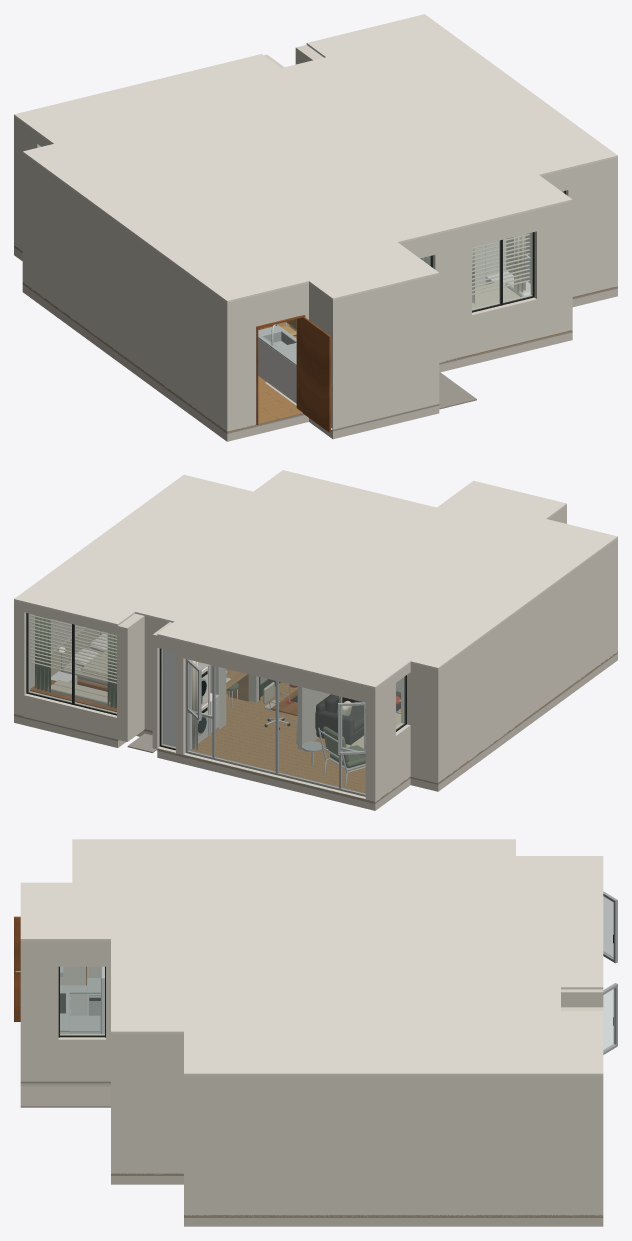
Rendered from home-model-800.glb.
3 renders of one model, top to bottom at view 1: azimuth 30°, elevation 25°; view 2: azimuth 150°, elevation 25°; view 3: azimuth 270°, elevation 25°, orthographic. The views are drawn at different scales.
Visible parts, largest first — view 1: 全屋顶面, CAD墙体_36, CAD墙体_86, CAD墙体_01, CAD墙体_02, 完整户型基座, CAD墙体_04, CAD墙体_35, CAD墙体_05, CAD墙体_83, CAD墙体_20, 入户门 (+27 smaller); view 2: 全屋顶面, Floor_shared_温润橡木地板, CAD墙体_36, CAD墙体_86, 阳台F2中央固定玻璃, 阳台F1中央固定玻璃, CAD墙体_02, 完整户型基座, CAD墙体_01, 主卧窗玻璃.001, 主卧窗玻璃, CAD墙体_05 (+34 smaller); view 3: 全屋顶面, CAD墙体_43, CAD墙体_01, CAD墙体_04, CAD墙体_86, CAD墙体_26, 完整户型基座, CAD墙体_83, CAD墙体_34, 厨房窗玻璃, CAD墙体_40, CAD墙体_85 (+23 smaller).
Boxes of the visible parts, x1,y1,x2,y2 form: 全屋顶面: [14, 14, 617, 302]; CAD墙体_36: [22, 190, 256, 373]; CAD墙体_86: [14, 45, 617, 313]; CAD墙体_01: [289, 262, 617, 428]; CAD墙体_02: [14, 221, 256, 430]; 完整户型基座: [14, 247, 617, 441]; CAD墙体_04: [331, 248, 617, 404]; CAD墙体_35: [308, 311, 439, 371]; CAD墙体_05: [14, 207, 256, 407]; CAD墙体_83: [22, 61, 617, 321]; CAD墙体_20: [14, 193, 256, 390]; 入户门: [303, 317, 330, 432]; 全屋顶面: [14, 470, 617, 688]; Floor_shared_温润橡木地板: [14, 651, 617, 801]; CAD墙体_36: [401, 570, 617, 731]; CAD墙体_86: [14, 505, 617, 697]; 阳台F2中央固定玻璃: [215, 666, 275, 771]; 阳台F1中央固定玻璃: [278, 682, 338, 787]; CAD墙体_02: [365, 630, 617, 801]; 完整户型基座: [14, 653, 617, 810]; CAD墙体_01: [14, 680, 258, 747]; 主卧窗玻璃.001: [28, 613, 71, 702]; 主卧窗玻璃: [74, 625, 116, 713]; CAD墙体_05: [365, 618, 617, 780]; 全屋顶面: [20, 839, 603, 1075]; CAD墙体_43: [184, 1115, 603, 1152]; CAD墙体_01: [20, 1054, 603, 1214]; CAD墙体_04: [20, 1034, 603, 1189]; CAD墙体_86: [20, 941, 603, 1086]; CAD墙体_26: [184, 1159, 603, 1171]; 完整户型基座: [20, 1083, 603, 1226]; CAD墙体_83: [20, 956, 603, 1095]; CAD墙体_34: [184, 1152, 603, 1159]; 厨房窗玻璃: [60, 967, 104, 1035]; CAD墙体_40: [111, 1073, 183, 1110]; CAD墙体_85: [20, 952, 603, 1090].
Size of the model in its own units: 9.73 by 2.96 by 10.6.
33 materials, 3 textured.
